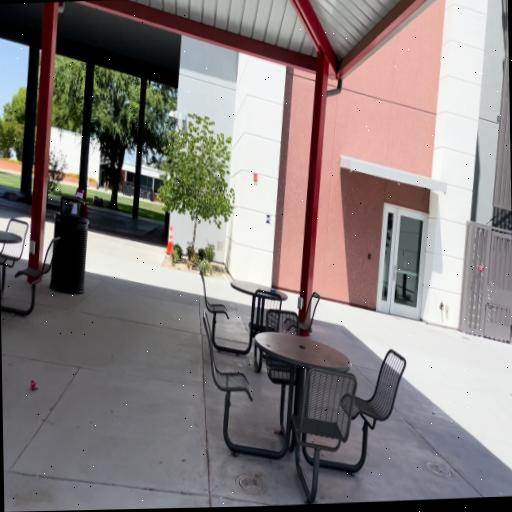target9: (265, 214, 271, 225)
